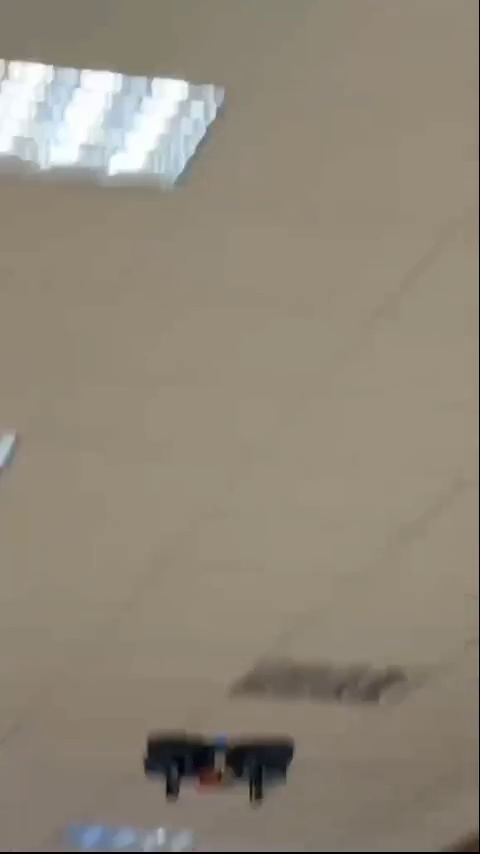drone: (141, 728, 294, 806)
